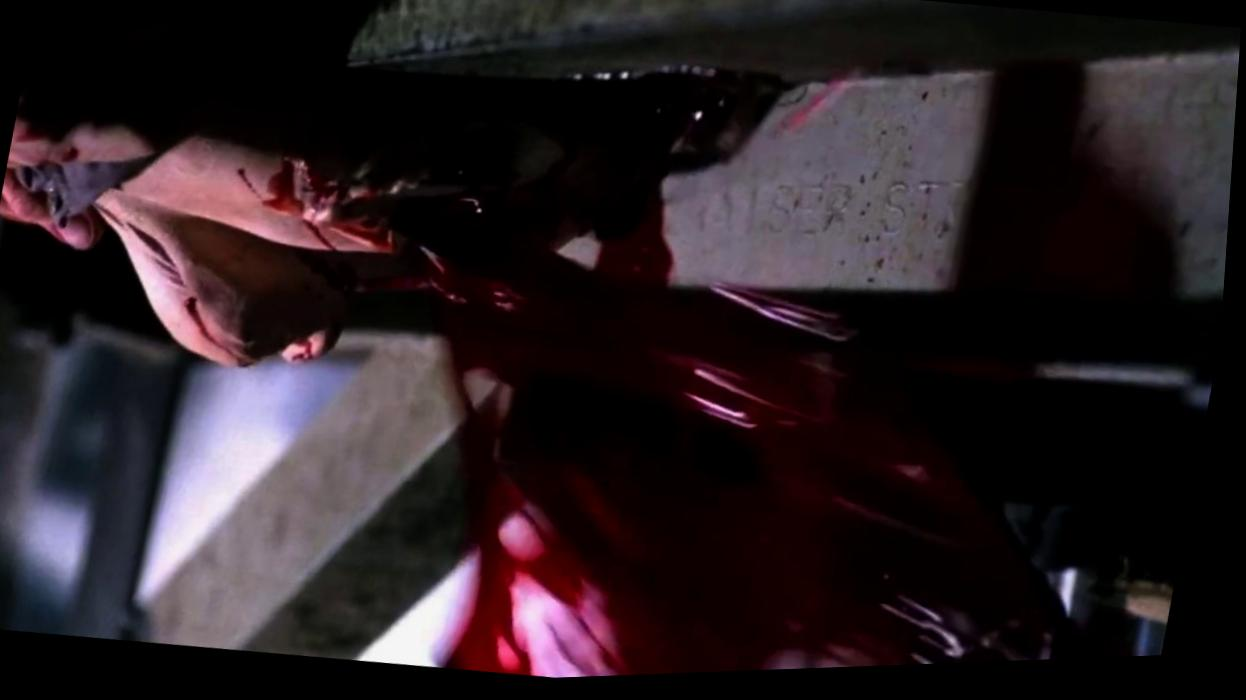Fire: (267, 83, 1095, 682), (506, 386, 681, 472)
